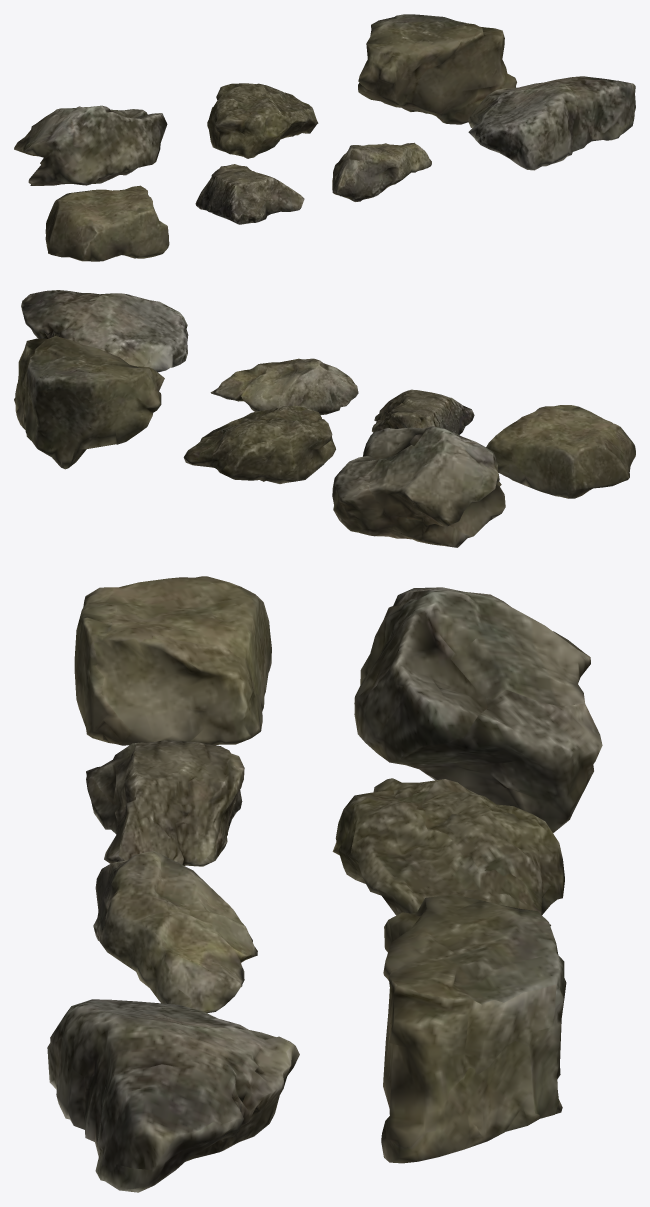
The model's file is rock_moss_set_02.glb.
3 views of the same model, one above another, from view 1: azimuth 30°, elevation 25°; view 2: azimuth 150°, elevation 25°; view 3: azimuth 270°, elevation 25° (orthographic). The views are drawn at different scales.
Visible parts, largest first — view 1: rock_moss_set_02_rock13, rock_moss_set_02_rock10, rock_moss_set_02_rock11, rock_moss_set_02_rock07, rock_moss_set_02_rock12, rock_moss_set_02_rock08, rock_moss_set_02_rock09; view 2: rock_moss_set_02_rock11, rock_moss_set_02_rock13, rock_moss_set_02_rock07, rock_moss_set_02_rock10, rock_moss_set_02_rock12, rock_moss_set_02_rock09, rock_moss_set_02_rock08; view 3: rock_moss_set_02_rock13, rock_moss_set_02_rock11, rock_moss_set_02_rock10, rock_moss_set_02_rock07, rock_moss_set_02_rock12, rock_moss_set_02_rock09, rock_moss_set_02_rock08.
Boxes of the visible parts, bbox=[...] form: rock_moss_set_02_rock13: bbox=[358, 14, 516, 124]; rock_moss_set_02_rock10: bbox=[468, 76, 635, 170]; rock_moss_set_02_rock11: bbox=[14, 105, 167, 185]; rock_moss_set_02_rock07: bbox=[45, 185, 169, 261]; rock_moss_set_02_rock12: bbox=[207, 83, 318, 158]; rock_moss_set_02_rock08: bbox=[195, 164, 304, 224]; rock_moss_set_02_rock09: bbox=[332, 142, 431, 201]; rock_moss_set_02_rock11: bbox=[332, 426, 505, 547]; rock_moss_set_02_rock13: bbox=[14, 336, 164, 469]; rock_moss_set_02_rock07: bbox=[486, 405, 635, 498]; rock_moss_set_02_rock10: bbox=[21, 290, 188, 372]; rock_moss_set_02_rock12: bbox=[183, 405, 335, 483]; rock_moss_set_02_rock09: bbox=[210, 358, 358, 415]; rock_moss_set_02_rock08: bbox=[372, 389, 474, 434]; rock_moss_set_02_rock13: bbox=[381, 894, 566, 1163]; rock_moss_set_02_rock11: bbox=[354, 587, 602, 832]; rock_moss_set_02_rock10: bbox=[47, 999, 299, 1192]; rock_moss_set_02_rock07: bbox=[74, 576, 271, 745]; rock_moss_set_02_rock12: bbox=[332, 778, 564, 925]; rock_moss_set_02_rock09: bbox=[93, 851, 257, 1013]; rock_moss_set_02_rock08: bbox=[86, 740, 244, 866].
Bounding box in the file's own units: 8.28 × 1.36 × 3.41.
1 material, 1 textured.
